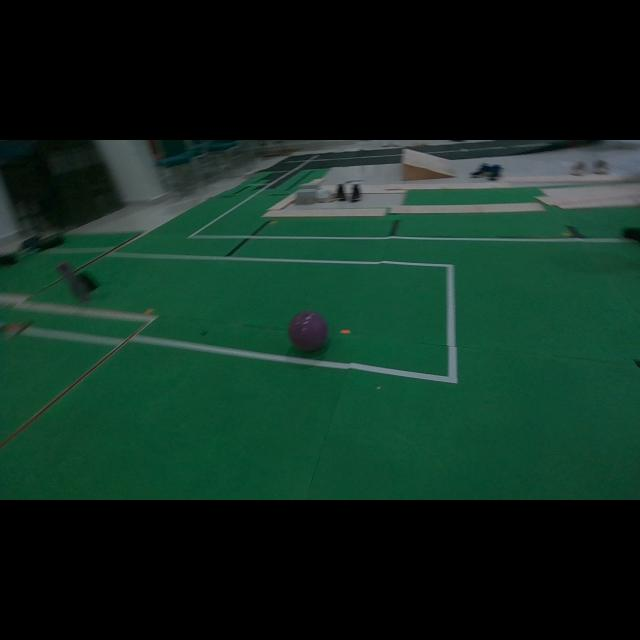P: (289, 311, 328, 351)
